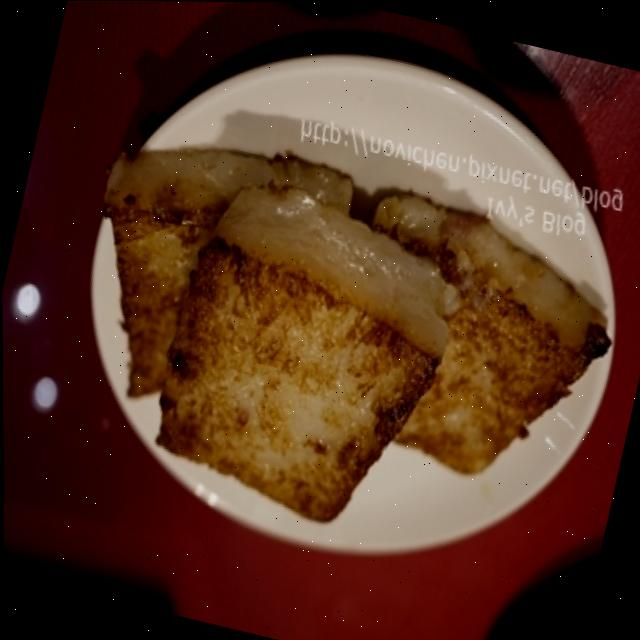蛋糕甜品: (71, 82, 632, 568)
